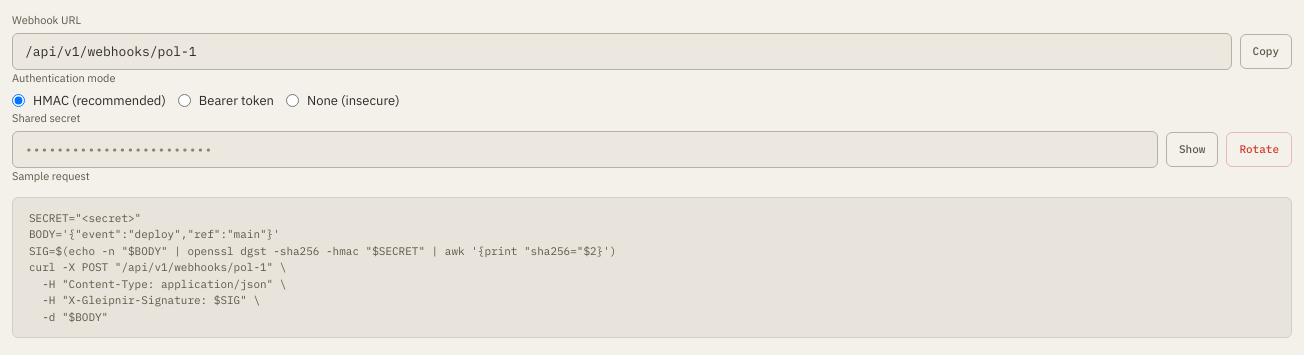
Test: WebhookConfig — secret management (HMAC mode, existing policy) › reveals the secret and shows Copy/Hide/Rotate when secret is loaded
The width and height of the screenshot is (1304, 355).
Note: Click Show to reveal
Step 1. Click the button "Show" → click(1192, 149), box 1166,132 -> 1218,166
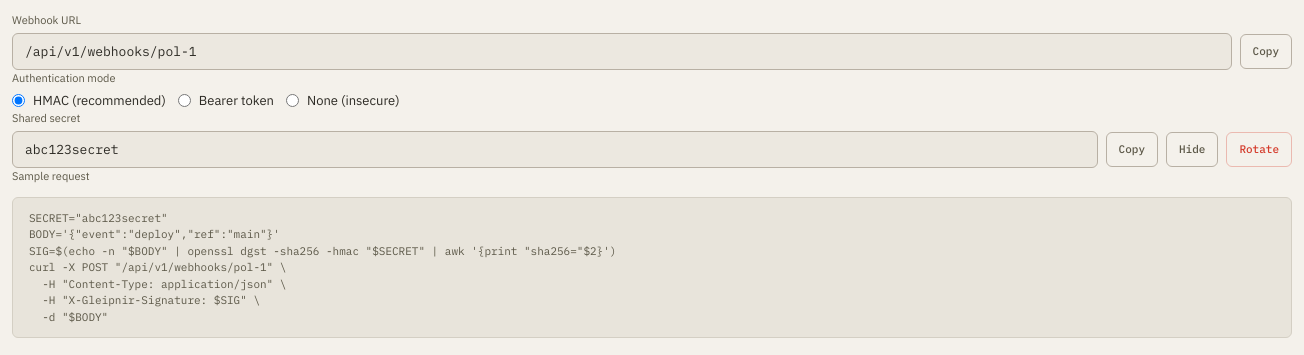
Expected: the button "Rotate" is shown, 1226,132 -> 1292,166
Now the field named "webhook secret" holds "abc123secret", box 12,130 -> 1098,168
Now the button "Hide" is shown, box 1166,132 -> 1218,166
